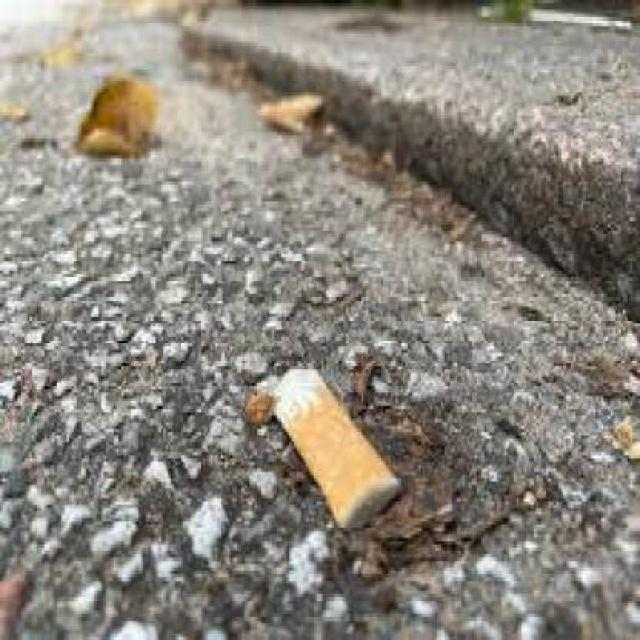cigarette: (269, 359, 408, 538)
